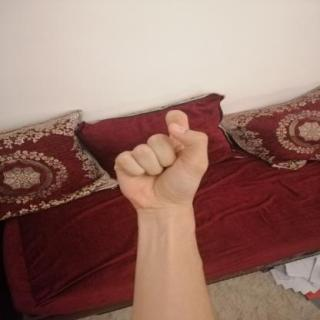FAA: (103, 104, 222, 218)
